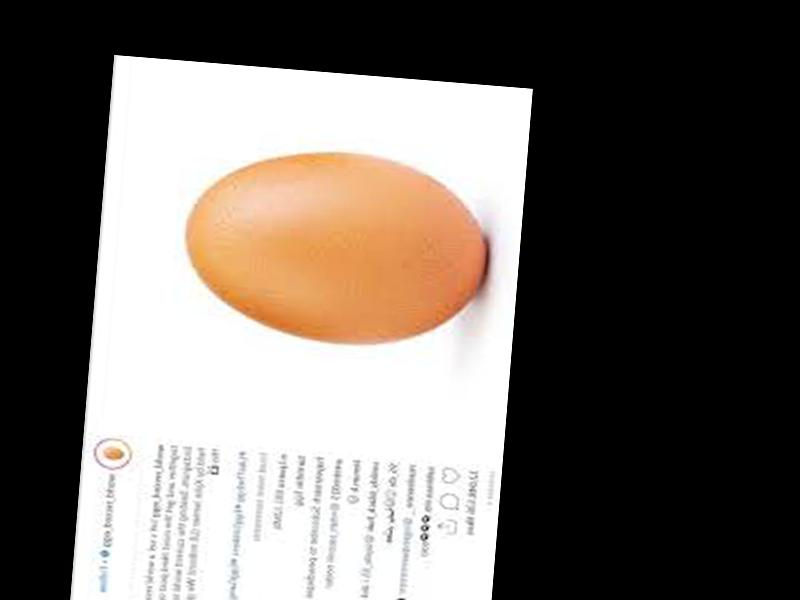Eggs: (178, 138, 491, 353)
